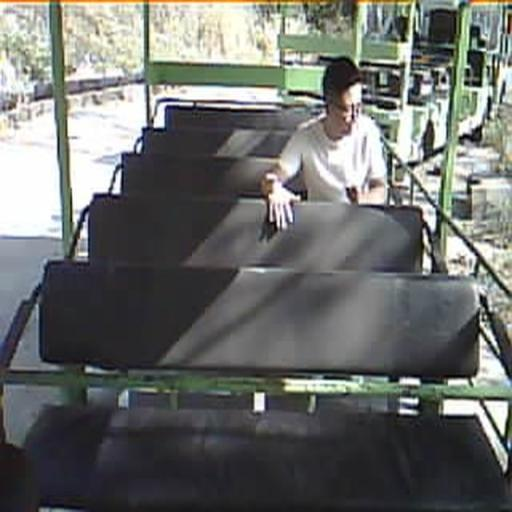persona: (260, 56, 390, 232)
